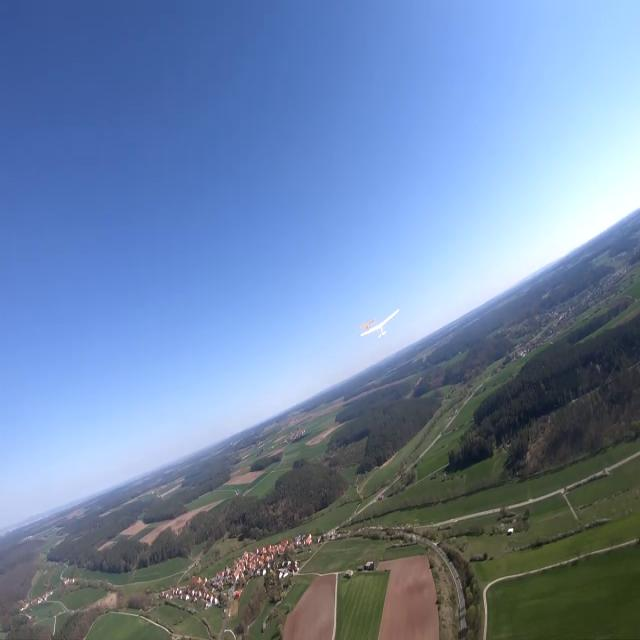iha: (353, 301, 401, 340), (360, 323, 374, 326)
